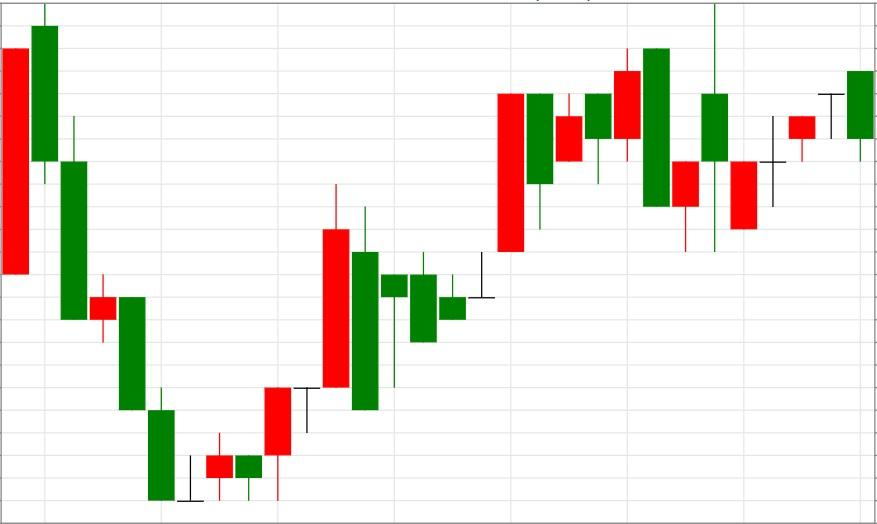bearish_engulfing_fall: (409, 48, 671, 343)
